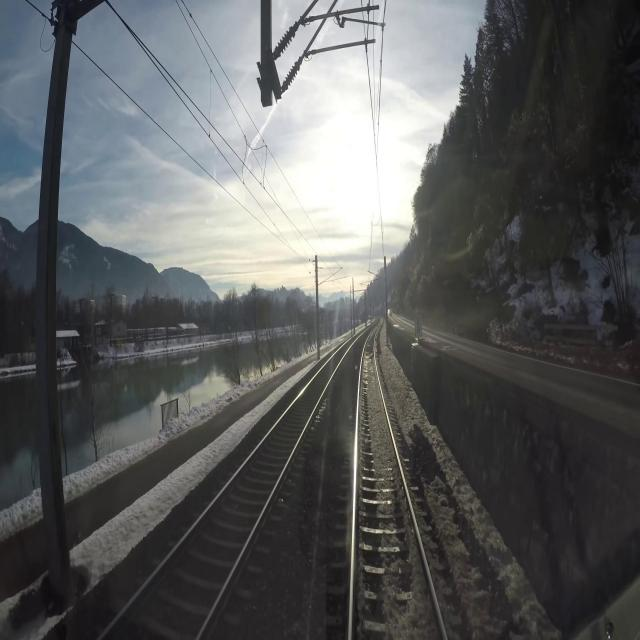rail-track: (103, 339, 353, 639), (352, 329, 442, 639)
